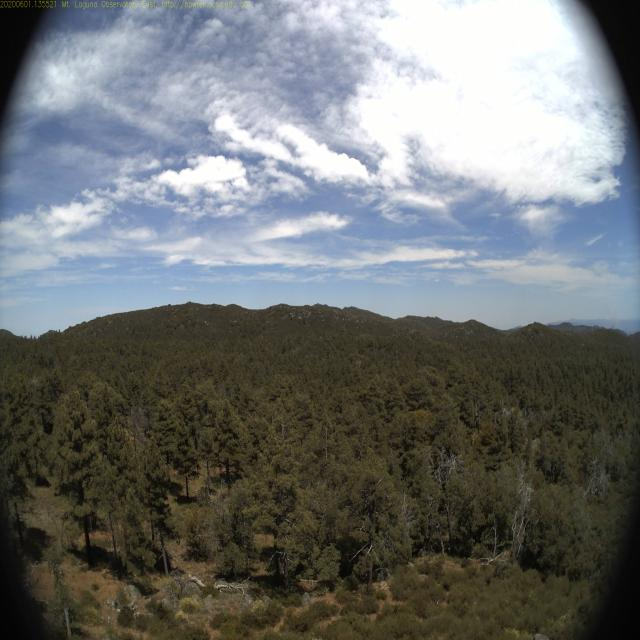smoke: (606, 300, 620, 328)
